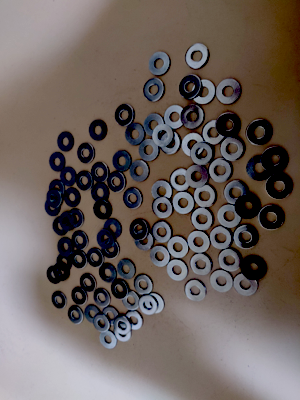circle: (215, 77, 243, 107), (246, 118, 274, 146), (261, 146, 288, 174), (246, 155, 273, 182), (215, 112, 241, 139), (266, 174, 293, 200), (259, 205, 285, 231), (191, 79, 216, 106), (235, 195, 261, 220), (242, 255, 268, 280), (220, 137, 245, 162), (202, 121, 227, 146), (185, 43, 209, 69), (179, 74, 203, 100), (233, 226, 260, 249), (219, 248, 243, 273), (209, 159, 233, 184), (225, 181, 248, 207), (233, 273, 259, 296), (218, 205, 242, 229), (143, 78, 166, 103), (185, 165, 210, 188), (149, 50, 171, 76), (190, 253, 213, 277), (191, 208, 214, 232), (152, 124, 175, 148), (159, 131, 182, 155), (182, 133, 205, 157), (210, 227, 235, 249), (195, 185, 217, 210), (211, 270, 234, 293), (188, 231, 211, 254), (143, 114, 166, 137), (170, 169, 193, 192), (191, 142, 214, 165), (164, 105, 186, 129), (139, 139, 161, 163), (167, 237, 192, 258), (181, 106, 204, 128), (152, 196, 174, 219), (150, 221, 173, 243), (149, 245, 172, 267), (185, 280, 207, 302), (173, 192, 194, 215), (151, 180, 174, 201), (166, 260, 188, 281), (125, 124, 146, 146), (107, 170, 127, 193), (88, 118, 108, 141), (115, 105, 135, 127), (123, 187, 142, 210), (76, 142, 95, 165), (112, 151, 132, 172), (134, 229, 154, 250), (145, 293, 166, 313), (123, 311, 144, 331), (56, 131, 75, 153), (67, 208, 86, 230), (130, 218, 148, 241), (93, 200, 113, 220), (103, 219, 123, 239), (97, 229, 116, 250), (134, 275, 153, 296), (139, 294, 158, 315), (118, 258, 136, 280), (130, 161, 148, 182), (60, 167, 78, 188), (114, 315, 132, 336), (64, 187, 82, 208), (103, 306, 120, 328), (114, 323, 133, 342), (75, 172, 93, 192), (122, 291, 140, 311), (99, 263, 117, 283), (72, 231, 90, 251), (84, 305, 102, 325), (79, 273, 97, 293), (49, 152, 66, 173), (49, 179, 66, 200), (99, 331, 117, 350), (57, 238, 75, 257), (52, 217, 70, 236), (92, 183, 109, 203), (87, 248, 104, 268), (71, 286, 88, 306), (59, 211, 76, 231), (47, 189, 64, 209), (94, 288, 111, 307), (56, 253, 73, 272), (44, 198, 61, 217), (54, 263, 70, 283), (71, 251, 88, 269), (112, 280, 128, 299), (94, 315, 110, 333), (47, 266, 63, 284), (52, 291, 67, 310), (68, 306, 83, 324)
